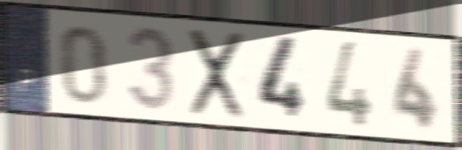0: (56, 22, 112, 106)
3: (124, 23, 177, 114)
4: (253, 32, 313, 127), (323, 38, 376, 132), (390, 44, 441, 134)
X: (188, 26, 247, 123)
